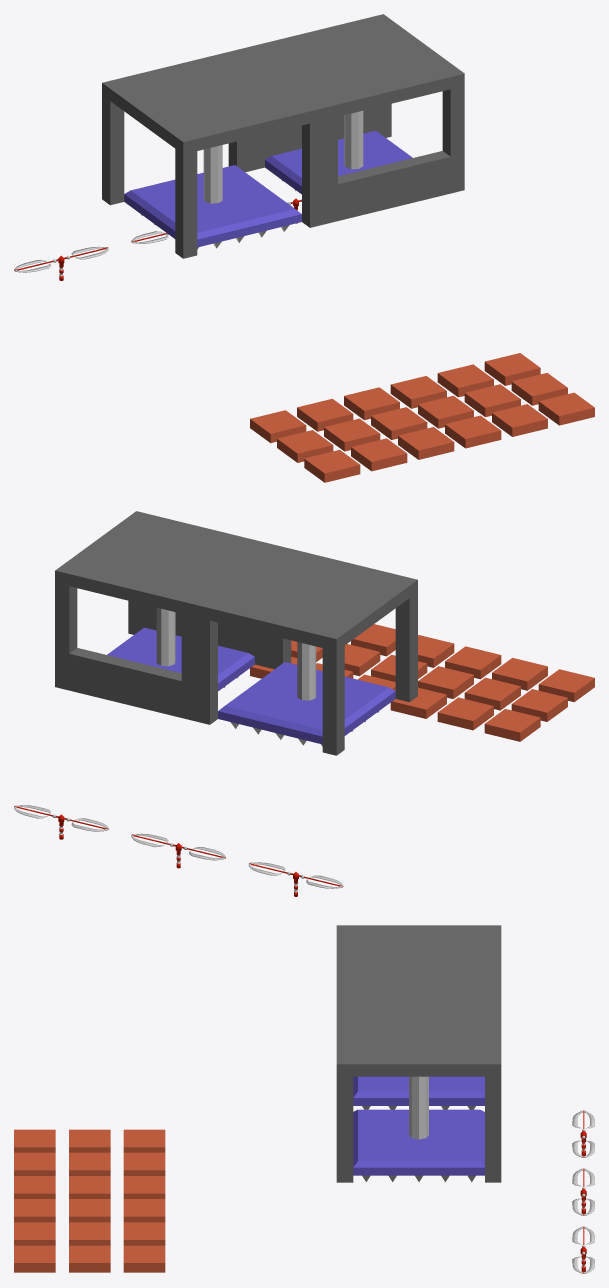
File: Level001JoinedTraps.fbx
3 views of the same model, one above another, from view 1: azimuth 30°, elevation 25°; view 2: azimuth 150°, elevation 25°; view 3: azimuth 270°, elevation 25° (orthographic).
Visible parts, largest first — view 1: Platform 6x6x0.5, Platform 6x6x0.000, PressurePlateTile.017, PressurePlateTile.005, PressurePlateTile.011, PressurePlateTile.006, PressurePlateTile, PressurePlateTile.012, PressurePlateTile.014, PressurePlateTile.009, PressurePlateTile.016, PressurePlateTile.015 (+9 smaller); view 2: Platform 6x6x0.5, Platform 6x6x0.000, PressurePlateTile.003, PressurePlateTile.002, PressurePlateTile.001, PressurePlateTile, PressurePlateTile.006, PressurePlateTile.004, PressurePlateTile.007, PressurePlateTile.005, PressurePlateTile.008, PressurePlateTile.012 (+6 smaller); view 3: Platform 6x6x0.000, Platform 6x6x0.5, PressurePlateTile.015, PressurePlateTile.017, PressurePlateTile.016, PressurePlateTile.014, PressurePlateTile.009, PressurePlateTile.003, PressurePlateTile.002, PressurePlateTile.013, PressurePlateTile.012, PressurePlateTile.011 (+11 smaller).
Part boxes in pixels (x1,y1,x2,y2): Platform 6x6x0.5: (102, 48, 323, 258); Platform 6x6x0.000: (243, 14, 464, 224); PressurePlateTile.017: (538, 392, 594, 425); PressurePlateTile.005: (351, 438, 407, 471); PressurePlateTile.011: (445, 415, 501, 448); PressurePlateTile.006: (398, 427, 454, 459); PressurePlateTile: (304, 450, 360, 482); PressurePlateTile.012: (492, 404, 547, 436); PressurePlateTile.014: (437, 364, 493, 397); PressurePlateTile.009: (390, 376, 446, 408); PressurePlateTile.016: (511, 373, 567, 405); PressurePlateTile.015: (484, 353, 540, 385); Platform 6x6x0.5: (196, 545, 417, 755); Platform 6x6x0.000: (55, 511, 276, 721); PressurePlateTile.003: (437, 697, 493, 730); PressurePlateTile.002: (484, 709, 540, 741); PressurePlateTile.001: (511, 689, 567, 721); PressurePlateTile: (538, 669, 594, 702); PressurePlateTile.006: (445, 646, 501, 679); PressurePlateTile.004: (464, 677, 520, 710); PressurePlateTile.007: (418, 666, 473, 698); PressurePlateTile.005: (492, 658, 547, 690); PressurePlateTile.008: (390, 687, 446, 718); PressurePlateTile.012: (351, 624, 395, 656); Platform 6x6x0.000: (336, 994, 501, 1182); Platform 6x6x0.5: (336, 925, 501, 1109); PressurePlateTile.015: (123, 1245, 165, 1272); PressurePlateTile.017: (14, 1245, 55, 1272); PressurePlateTile.016: (69, 1245, 110, 1272); PressurePlateTile.014: (123, 1222, 165, 1245); PressurePlateTile.009: (123, 1199, 165, 1222); PressurePlateTile.003: (123, 1152, 165, 1175); PressurePlateTile.002: (123, 1129, 165, 1152); PressurePlateTile.013: (69, 1222, 110, 1245); PressurePlateTile.012: (14, 1222, 55, 1245); PressurePlateTile.011: (14, 1199, 55, 1222).
Bounding box in the file's own units: 1400 × 925 × 2117.
